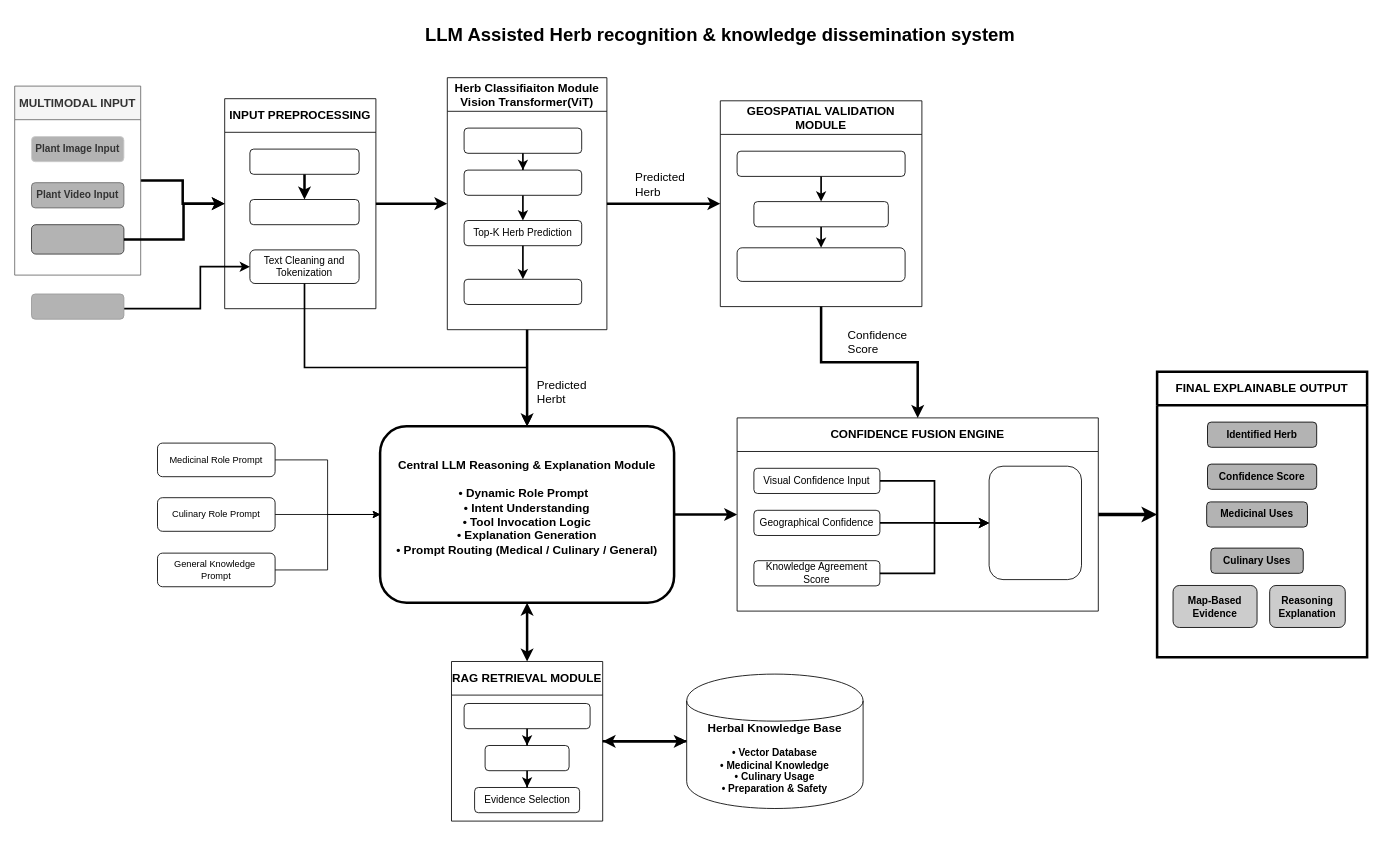
Some shapes in this 1383 by 845 pixel diagram are drawn without their labels. The shapes that lost their labels are listed below. From the top down, each one's centre as x and y in pixels, then its label:
At point 522,140: "Patch Embedding".
At point 304,161: "Video Frame Extraction".
At point 820,163: "Herb Distribution".
At point 522,182: "Self-Attention Encoding".
At point 304,212: "Image Normalization".
At point 820,214: "Location Plausibility Check".
At point 77,239: "Location Input".
At point 820,264: "Geographical Confidence Score".
At point 77,306: "Text Query Input".
At point 522,291: "Visual Confidence Score".
At point 1035,522: "Final Confidence Score Computation".
At point 526,716: "Vector Database Search".
At point 526,758: "Context Filtering".
